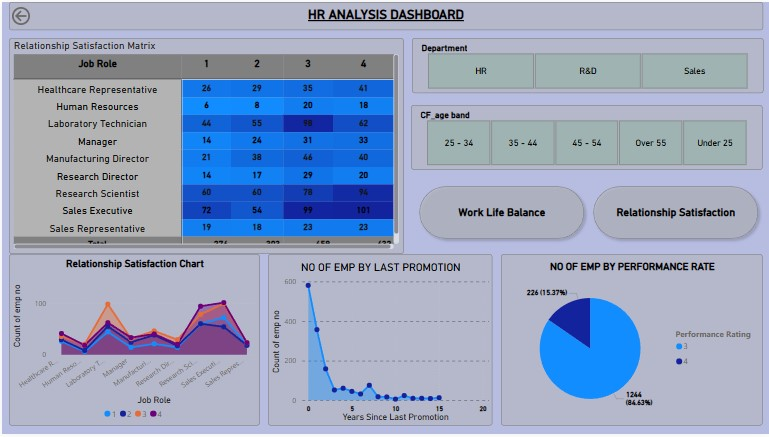

This screenshot's page, from the dashboard's own definition file:
{"tool":"powerbi","page":{"name":"Experience_Dashboard","canvas":[1280,720],"ordinal":2},"visuals":[{"type":"textbox","box":[11.7,0,1256.7,46.7],"z":0},{"type":"pivotTable","title":"Work Life Balance Matrix","fields":{"Columns":["HR data.Work Life Balance"],"Rows":["HR data.Job Role"],"Values":["Count(HR data.emp no)"]},"box":[12,60,658,350],"z":1000},{"type":"pieChart","title":"NO OF EMP BY PERFORMANCE RATE","fields":{"Y":["CountNonNull(HR data.emp no)"],"Category":["HR data.Performance Rating"]},"box":[832,420,436,286],"z":2000},{"type":"areaChart","title":"NO OF EMP BY LAST PROMOTION","fields":{"Category":["HR data.Years Since Last Promotion"],"Y":["CountNonNull(HR data.emp no)"]},"box":[444,420,374,286],"z":3000},{"type":"slicer","fields":{"Values":["HR data.Department"]},"box":[684,60,586,92],"z":4000},{"type":"shape","box":[686,298.7,292.7,105.1],"z":6000,"group":"g1"},{"type":"slicer","fields":{"Values":["HR data.CF_age band"]},"box":[682,171.3,586,108],"z":6000},{"type":"shape","box":[975.3,298.7,292.7,105.1],"z":7000,"group":"g1"},{"type":"group","id":"g1","title":"Group 1","box":[686,298.7,582,102],"z":7000},{"type":"areaChart","title":"Work Life Balance Chart","fields":{"Category":["HR data.Job Role"],"Y":["CountNonNull(HR data.emp no)"],"Series":["HR data.Work Life Balance"]},"box":[12,420,418,286],"z":8000},{"type":"actionButton","box":[12,4,100,40],"z":10000}]}

Visuals, with their boxes in screenshot pixels (x1, y1, x2, y2), scaled from the page's 1280x720 canvas onto the 769x437 screenshot:
textbox: bbox(7, 0, 762, 28)
"Work Life Balance Matrix" pivotTable: bbox(7, 36, 403, 249)
"NO OF EMP BY PERFORMANCE RATE" pieChart: bbox(500, 255, 762, 429)
"NO OF EMP BY LAST PROMOTION" areaChart: bbox(267, 255, 491, 429)
slicer - HR data.Department: bbox(411, 36, 763, 92)
shape: bbox(412, 181, 588, 245)
slicer - HR data.CF_age band: bbox(410, 104, 762, 170)
shape: bbox(586, 181, 762, 245)
"Group 1" group: bbox(412, 181, 762, 243)
"Work Life Balance Chart" areaChart: bbox(7, 255, 258, 429)
actionButton: bbox(7, 2, 67, 27)
